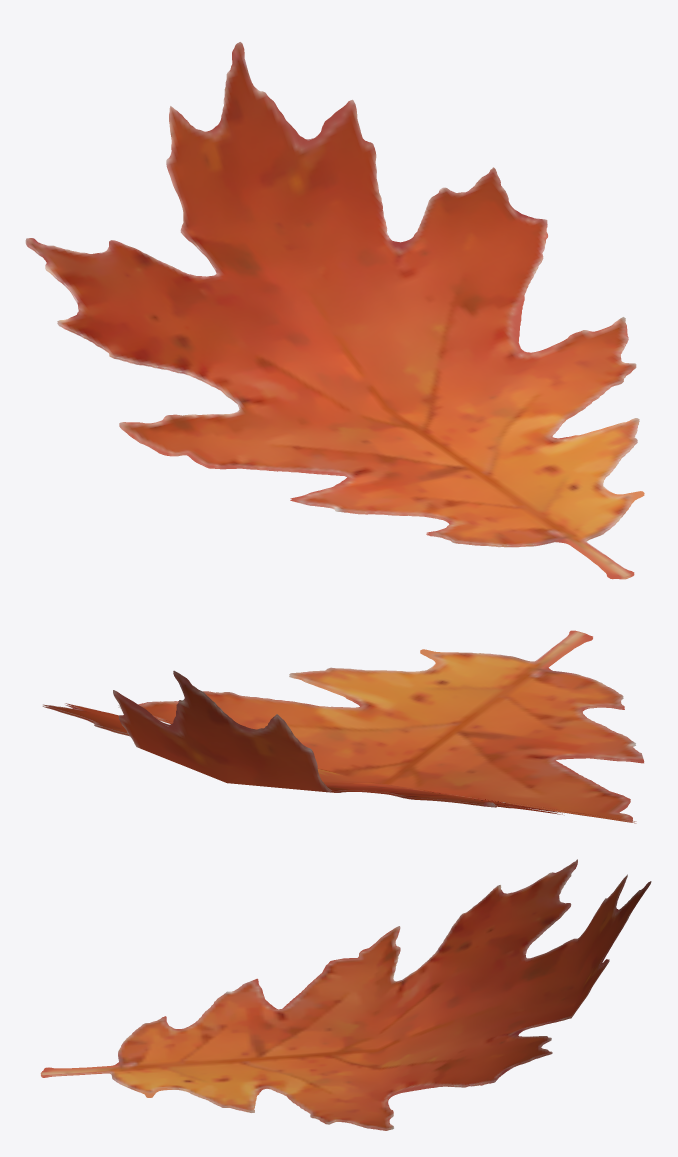
The model's file is FSF_Leaf_04.FBX.
3 renders of one model, top to bottom at view 1: azimuth 30°, elevation 25°; view 2: azimuth 150°, elevation 25°; view 3: azimuth 270°, elevation 25°, orthographic. The views are drawn at different scales.
Visible parts, largest first — view 1: FSF_Leaf_04; view 2: FSF_Leaf_04; view 3: FSF_Leaf_04.
Boxes of the visible parts, left/top/right/bottom form: FSF_Leaf_04: left=25, top=42, right=644, bottom=579; FSF_Leaf_04: left=42, top=630, right=644, bottom=823; FSF_Leaf_04: left=40, top=859, right=651, bottom=1130.
Bounding box in the file's own units: 12.93 × 6.19 × 17.02.
